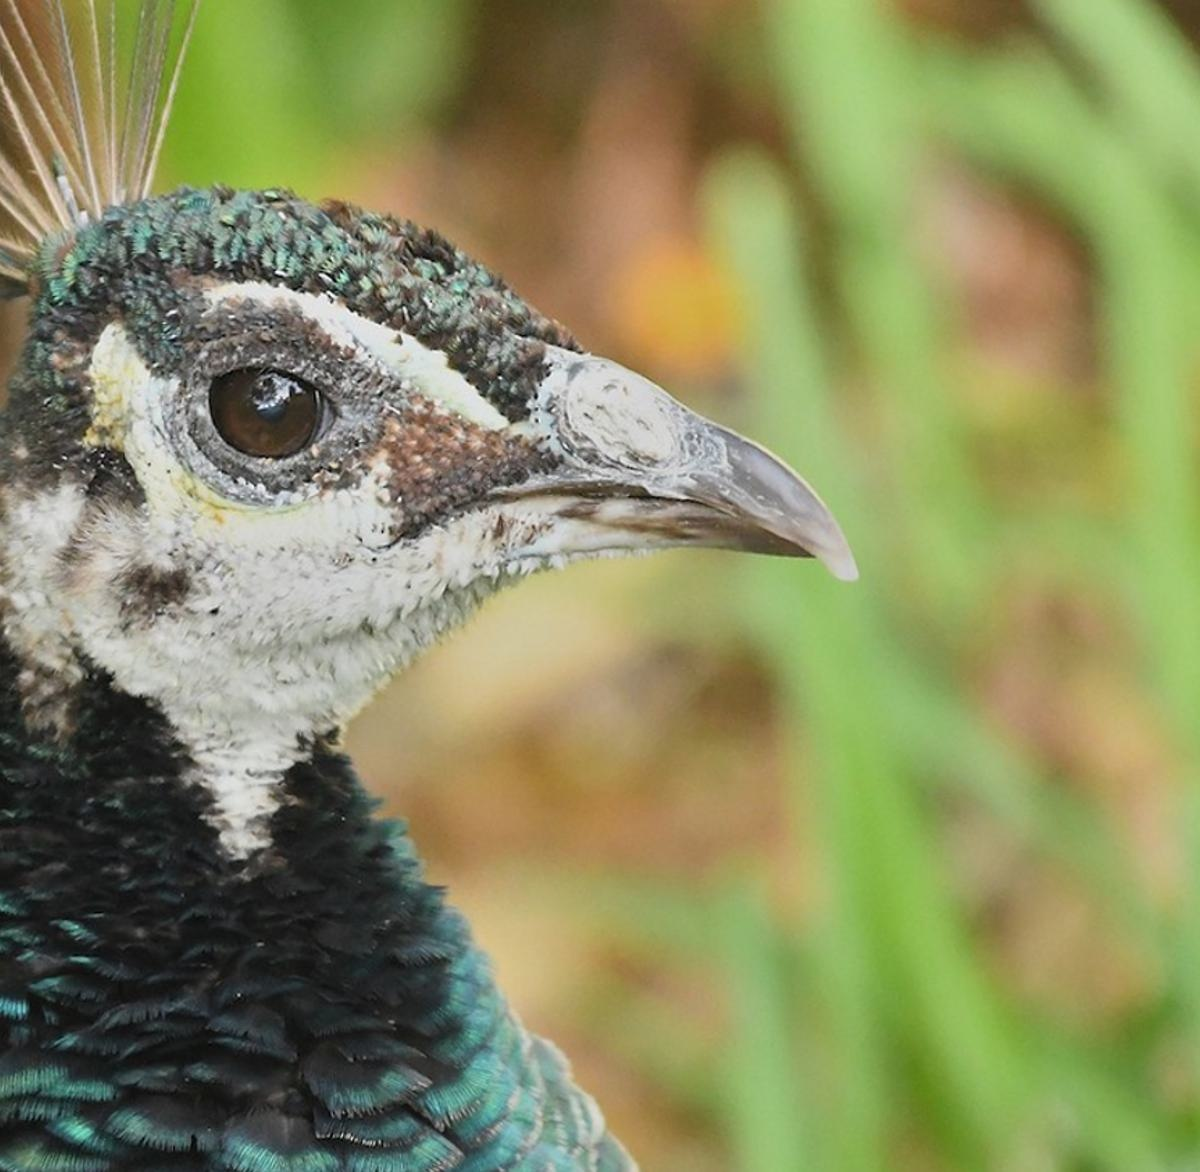peacock: (1, 181, 958, 1113)
